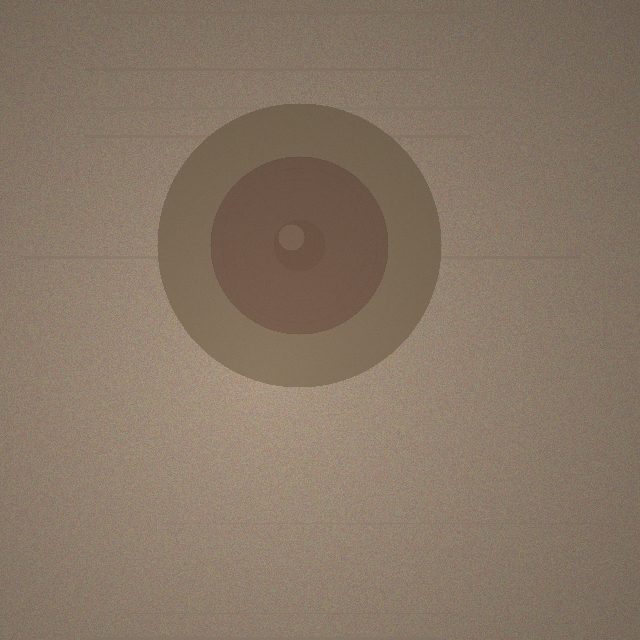good: (157, 103, 441, 387)
